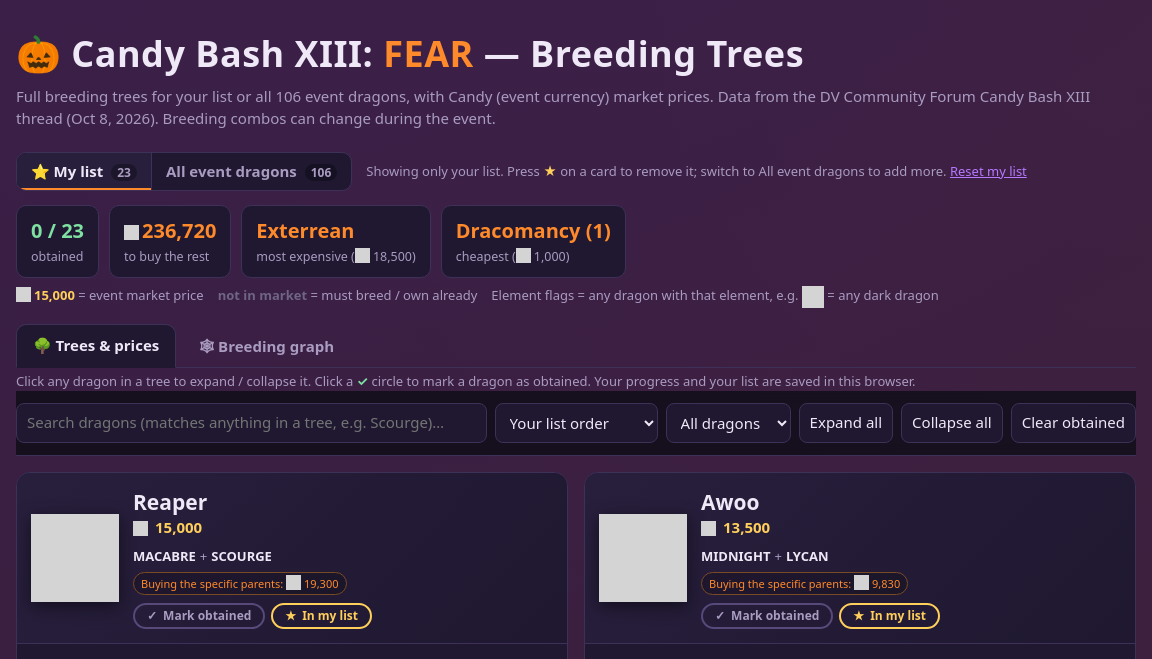
Test: Trees & prices tab › search matches anything in a tree and shows an empty state
The width and height of the screenshot is (1152, 659).
Type "Scourge" into the search field with placeholder "Search dragons (matches anything in a tree, e.g. Scourge)…" at (251, 423), box [16,403,487,443]
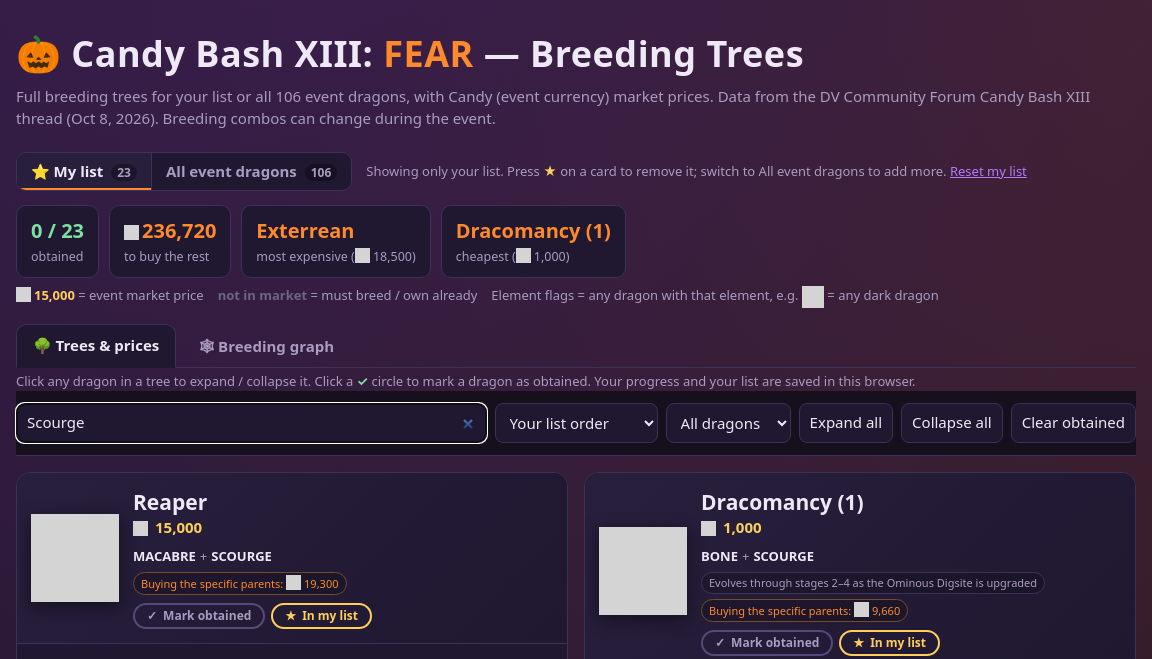
Replace the text in the search field with placeholder "Search dragons (matches anything in a tree, e.g. Scourge)…" with "zzz" at (251, 423), box [16,403,487,443]
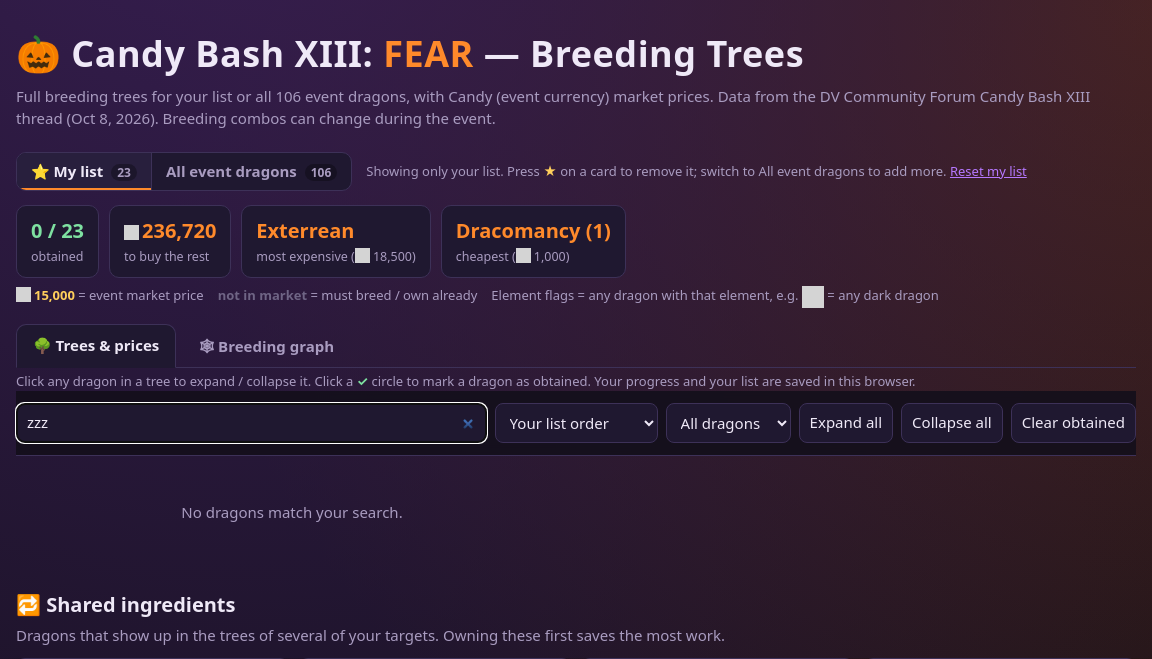
Check: the text with class "empty" reads "No dragons match your search.", box [181,502,403,522]
